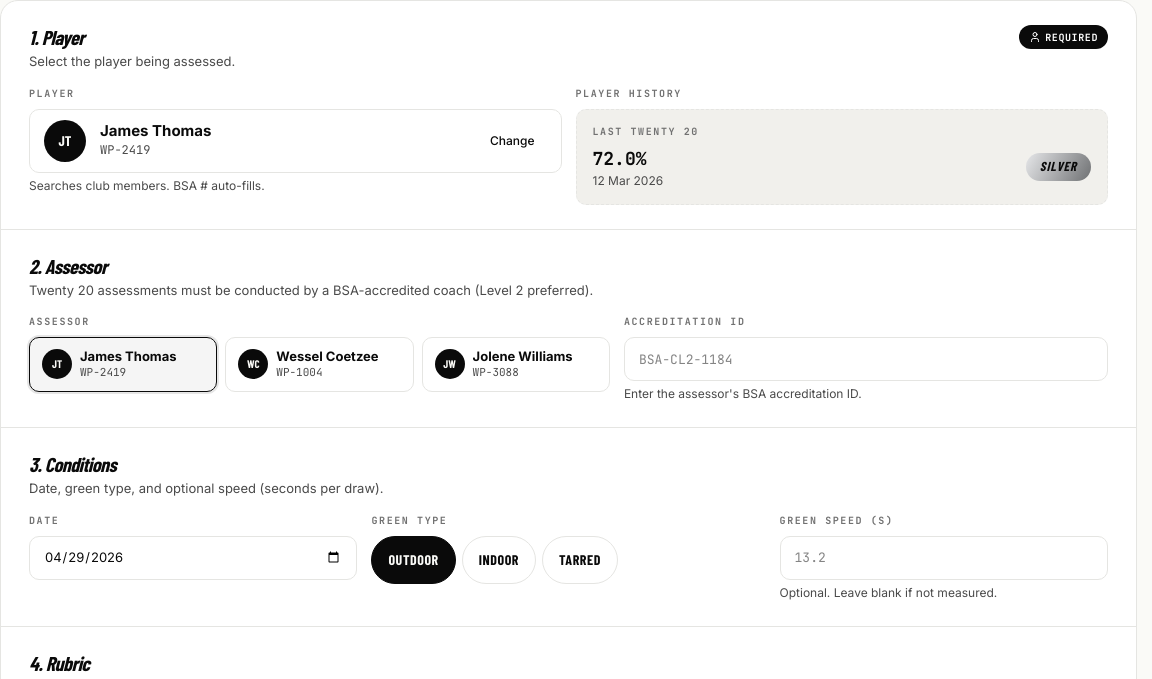
Test: <NewAssessmentForm /> — player picker › Cancel closes the picker without changing the player
Click the button "Change": (512, 140) [478,122,546,158]
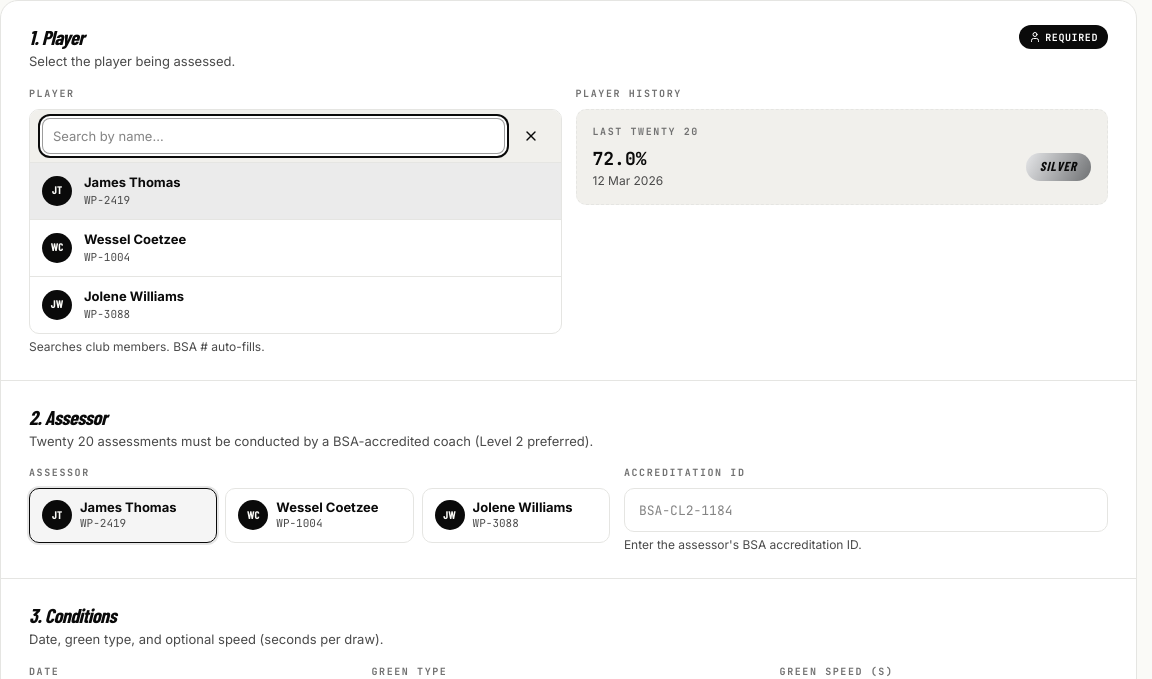
Click the button named "Cancel player picker": (530, 136) [512,118,548,154]
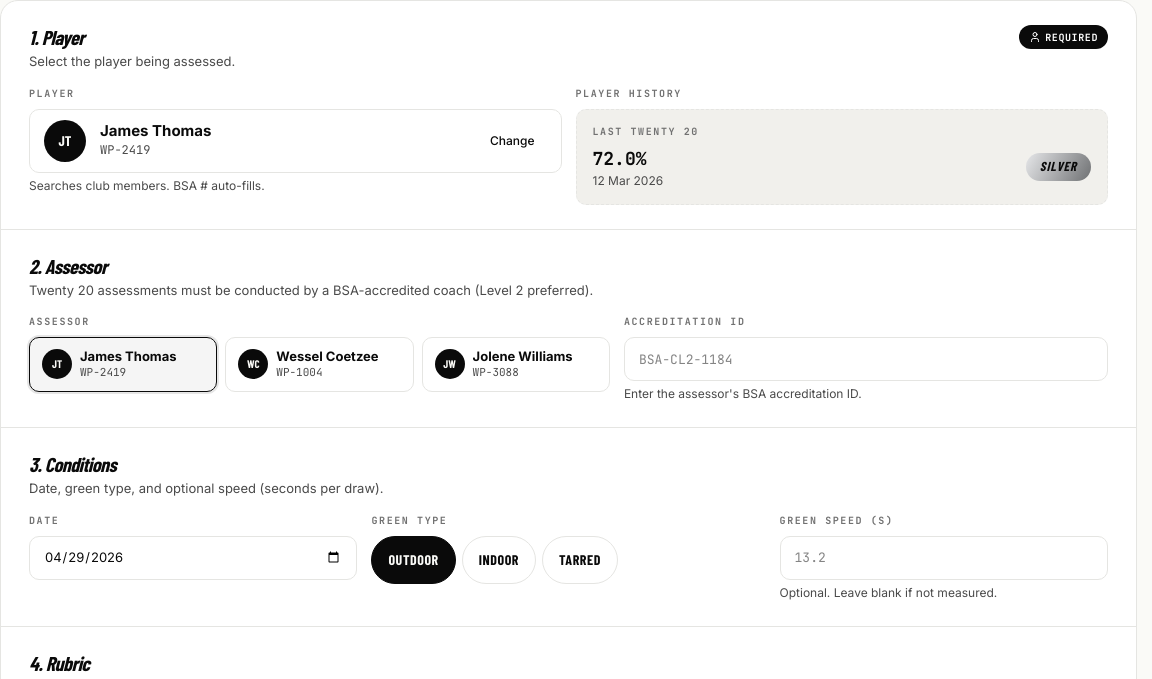
expect the text "James Thomas" is shown: met, box [100,121,211,140]
